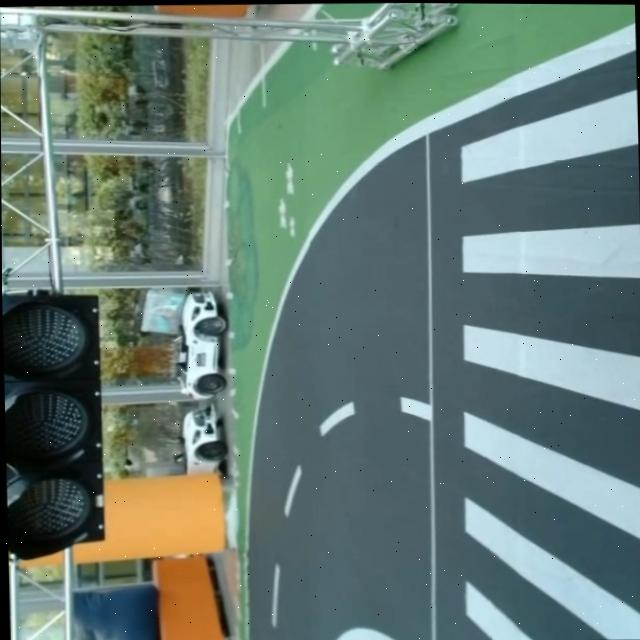traffic-light: (2, 286, 109, 563)
